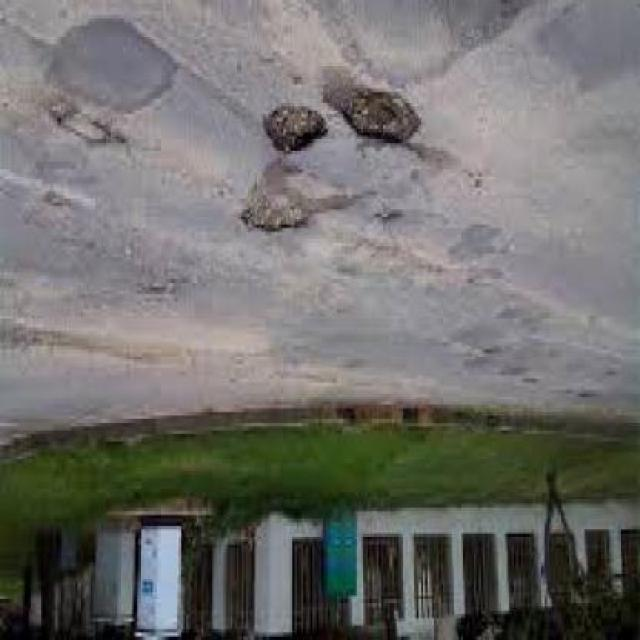pothole: (332, 89, 418, 154), (259, 103, 327, 166), (235, 195, 310, 243)
